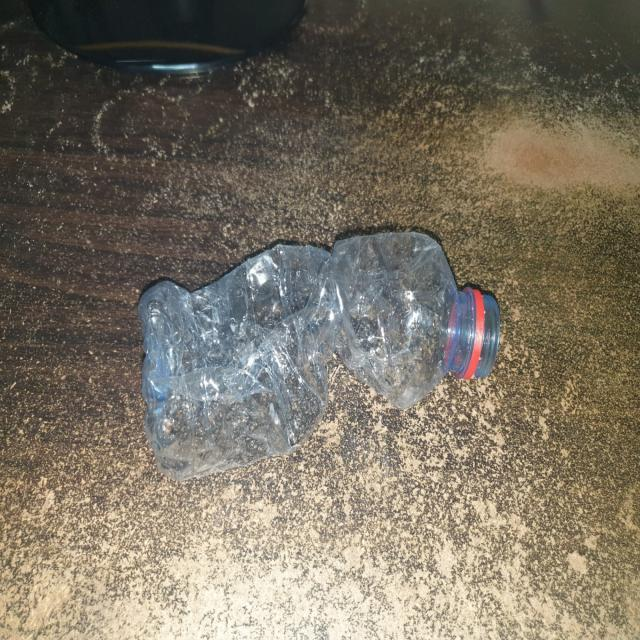chai: (139, 232, 500, 480)
